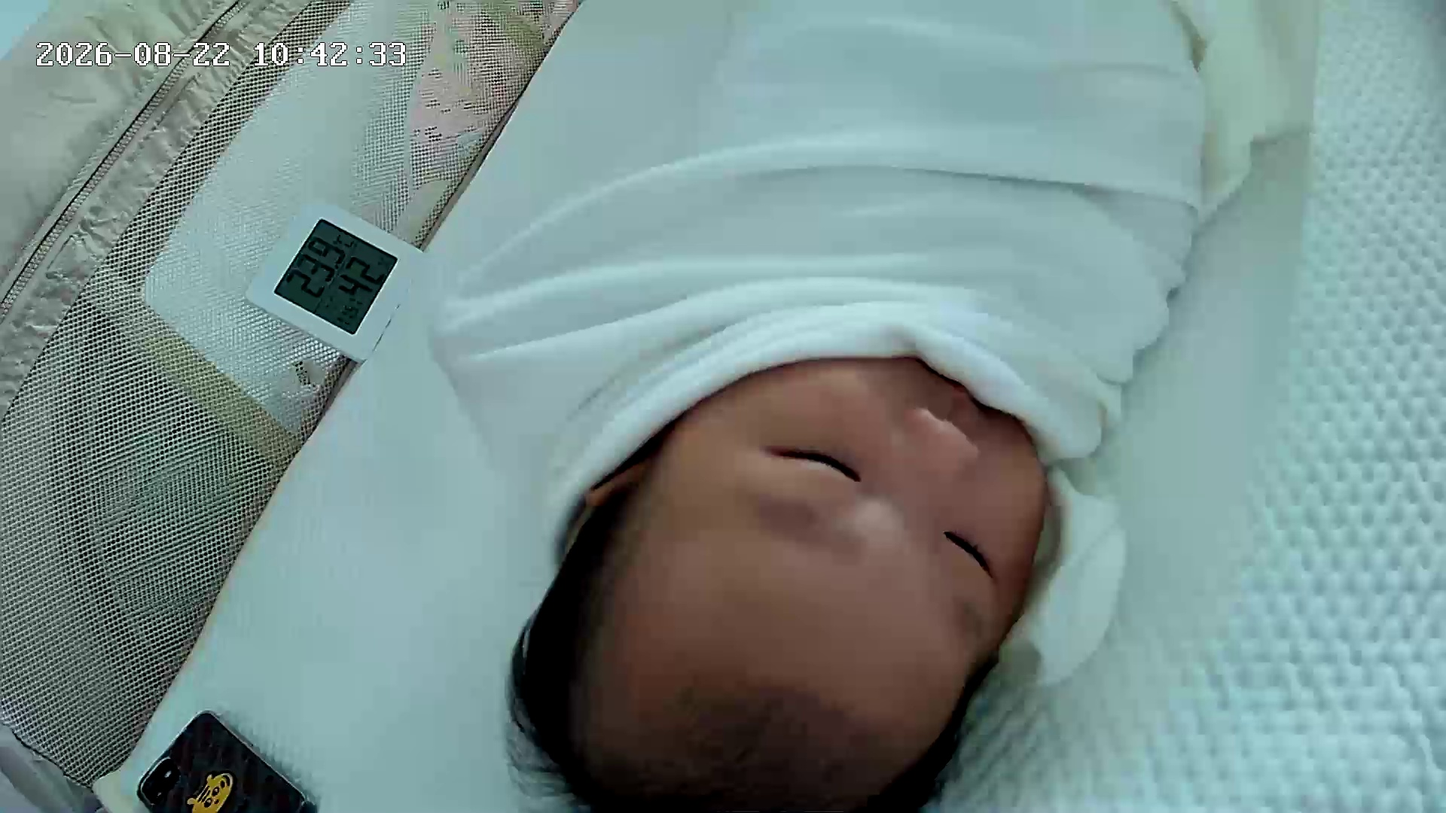baby: (378, 2, 1230, 813)
baby_face: (500, 347, 1090, 813)
